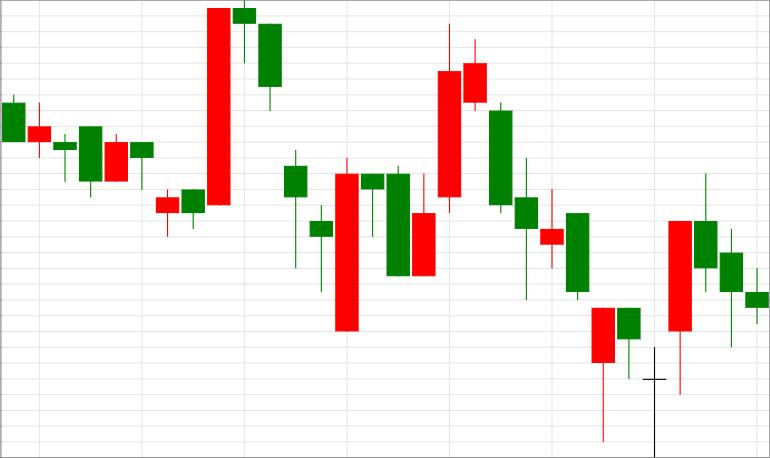hammer_rise: (489, 100, 615, 441)
morning_star_rise: (489, 99, 691, 458)
